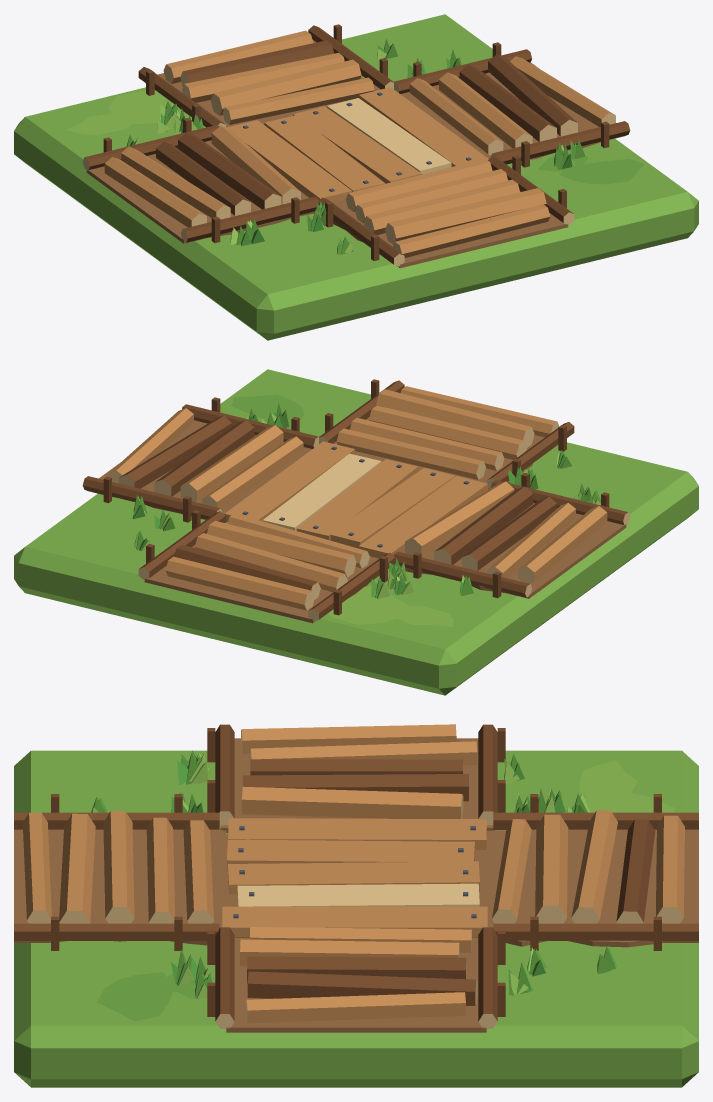
The model's file is road_l2.fbx.
3 renders of one model, top to bottom at view 1: azimuth 30°, elevation 25°; view 2: azimuth 150°, elevation 25°; view 3: azimuth 270°, elevation 25°, orthographic. The views are drawn at different scales.
Visible parts, largest first — view 1: road_l2, Road_YPlus, Road_XPlus, Road_XMinus, Road_YMinus; view 2: road_l2, Road_YMinus, Road_XPlus, Road_XMinus, Road_YPlus; view 3: road_l2, Road_XMinus, Road_YMinus, Road_XPlus, Road_YPlus.
Boxes of the visible parts, <box> form: road_l2: <box>14,14,698,340</box>; Road_YPlus: <box>307,155,574,268</box>; Road_XPlus: <box>82,118,319,246</box>; Road_XMinus: <box>394,42,630,167</box>; Road_YMinus: <box>138,24,393,133</box>; road_l2: <box>14,369,698,695</box>; Road_YMinus: <box>138,510,406,623</box>; Road_XPlus: <box>393,473,630,598</box>; Road_XMinus: <box>82,397,318,522</box>; Road_YPlus: <box>319,379,574,489</box>; road_l2: <box>14,750,698,1087</box>; Road_XMinus: <box>189,927,533,1032</box>; Road_YMinus: <box>486,788,698,950</box>; Road_XPlus: <box>177,724,524,832</box>; Road_YPlus: <box>14,792,226,950</box>.
Bounding box in the file's own units: 1 × 0.1531 × 1.
